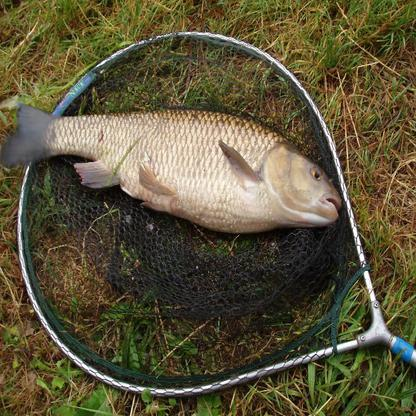fish: (8, 102, 343, 233)
